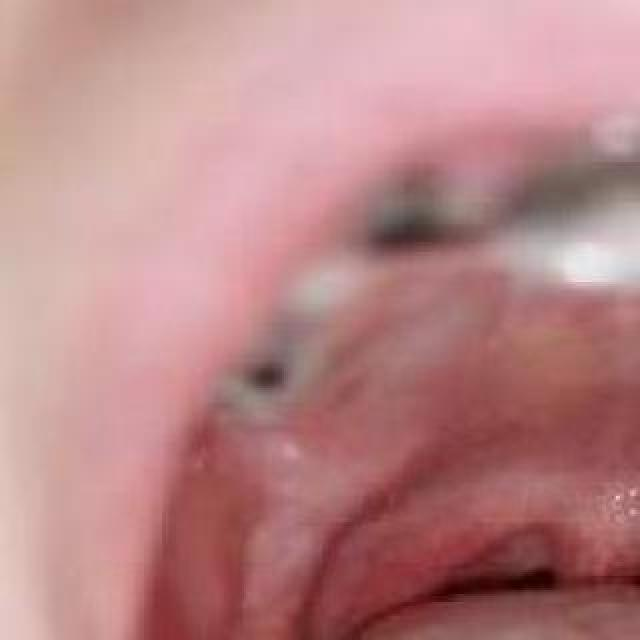cavities: (365, 156, 499, 264), (508, 134, 640, 218), (238, 306, 312, 410)
